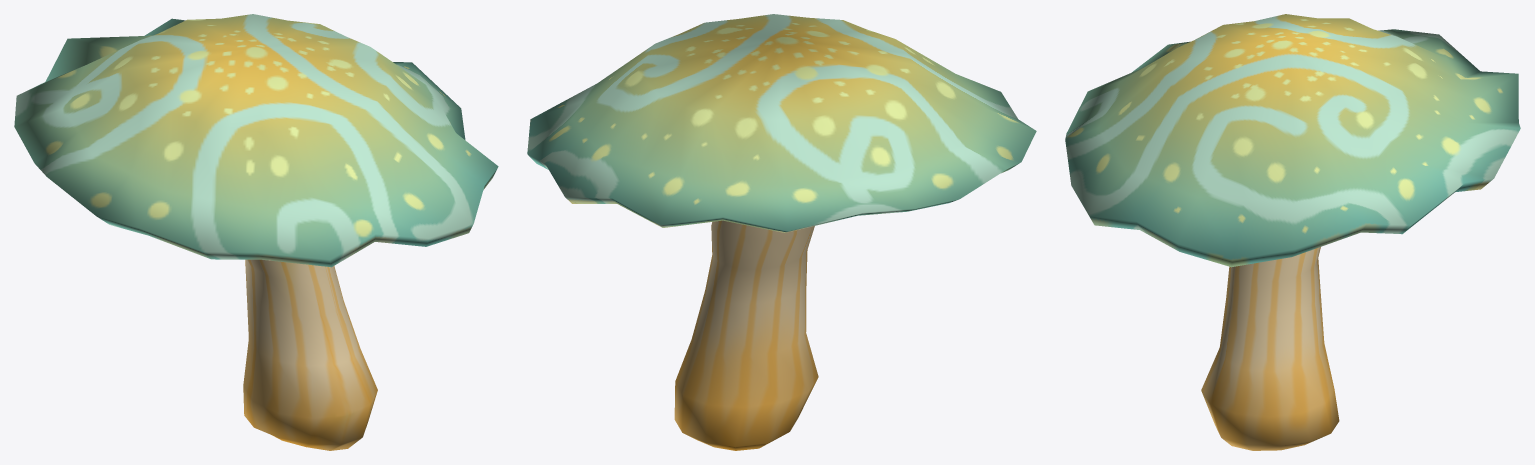
Rendered from BlueMushroon.fbx.
The picture shows the model from 3 angles, left to right: view 1: azimuth 30°, elevation 25°; view 2: azimuth 150°, elevation 25°; view 3: azimuth 270°, elevation 25°; orthographic projection. The views are drawn at different scales.
Visible parts, largest first — view 1: BlueMushroon; view 2: BlueMushroon; view 3: BlueMushroon.
Boxes of the visible parts, box(x1,y1,x2,y2) form: BlueMushroon: box(14, 14, 498, 450); BlueMushroon: box(527, 14, 1036, 450); BlueMushroon: box(1065, 14, 1520, 450).
Size of the model in its own units: 162 by 145 by 160.
